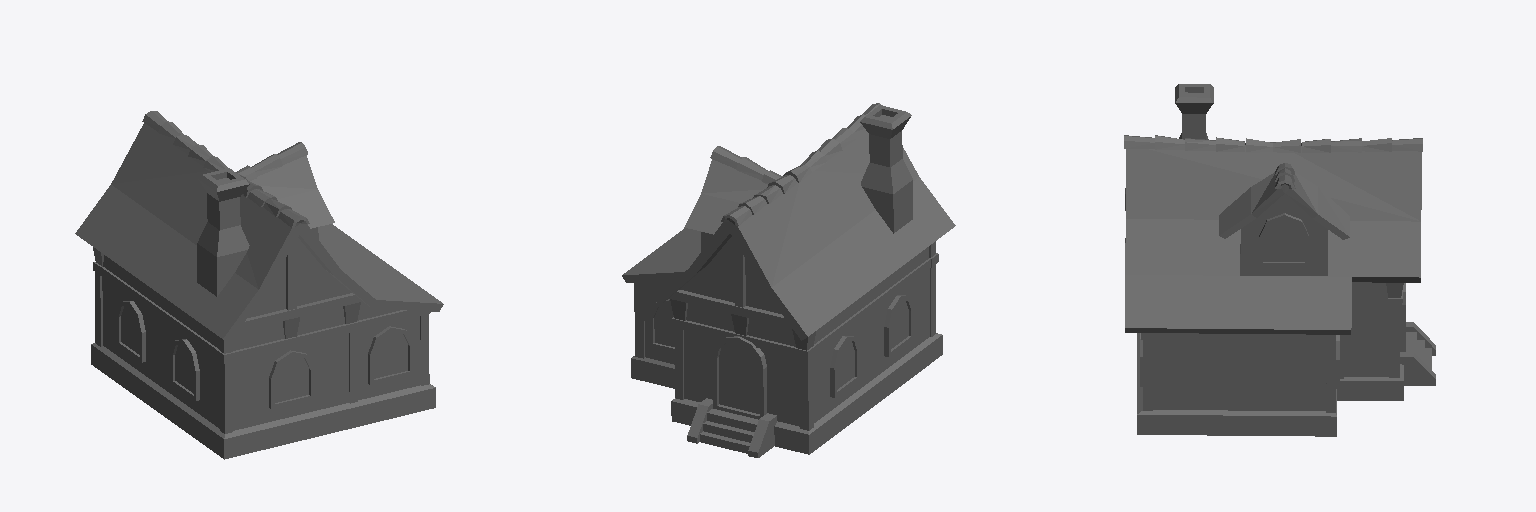
File: BakerHouse.obj
3 renders of one model, left to right at view 1: azimuth 30°, elevation 25°; view 2: azimuth 150°, elevation 25°; view 3: azimuth 270°, elevation 25°, orthographic.
Visible parts, largest first — view 1: Baker_house; view 2: Baker_house; view 3: Baker_house.
Part boxes in pixels (bbox=[...]): Baker_house: bbox=[75, 111, 443, 459]; Baker_house: bbox=[622, 103, 955, 457]; Baker_house: bbox=[1124, 84, 1435, 436].
Bounding box in the file's own units: 321 × 358 × 394.